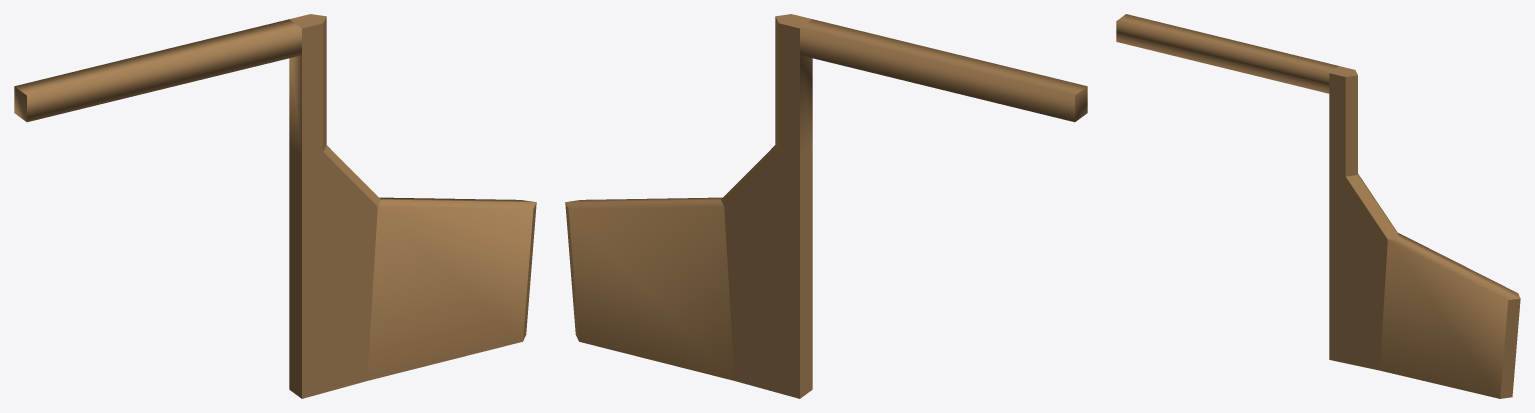
The model's file is boat01_shovel.fbx.
The picture shows the model from 3 angles, left to right: view 1: azimuth 30°, elevation 25°; view 2: azimuth 150°, elevation 25°; view 3: azimuth 330°, elevation 25°; orthographic projection. The views are drawn at different scales.
Visible parts, largest first — view 1: boat_01.001; view 2: boat_01.001; view 3: boat_01.001.
Boxes of the visible parts, x1=… form: boat_01.001: x1=14, y1=14, x2=536, y2=398; boat_01.001: x1=565, y1=14, x2=1087, y2=398; boat_01.001: x1=1116, y1=14, x2=1520, y2=398.
Size of the model in its own units: 7 by 165 by 113.
